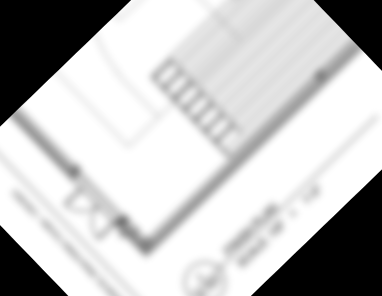double door: (60, 184, 119, 244)
wall: (135, 38, 362, 258), (11, 107, 82, 179), (115, 216, 158, 260)
